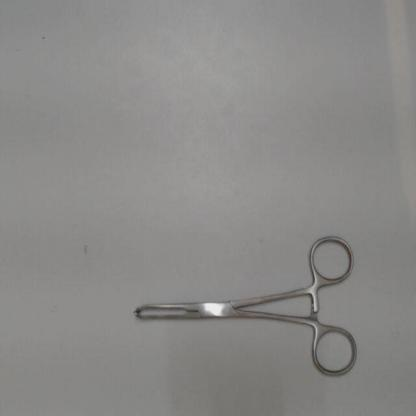Allis Tissue Forceps: (127, 227, 364, 391)
